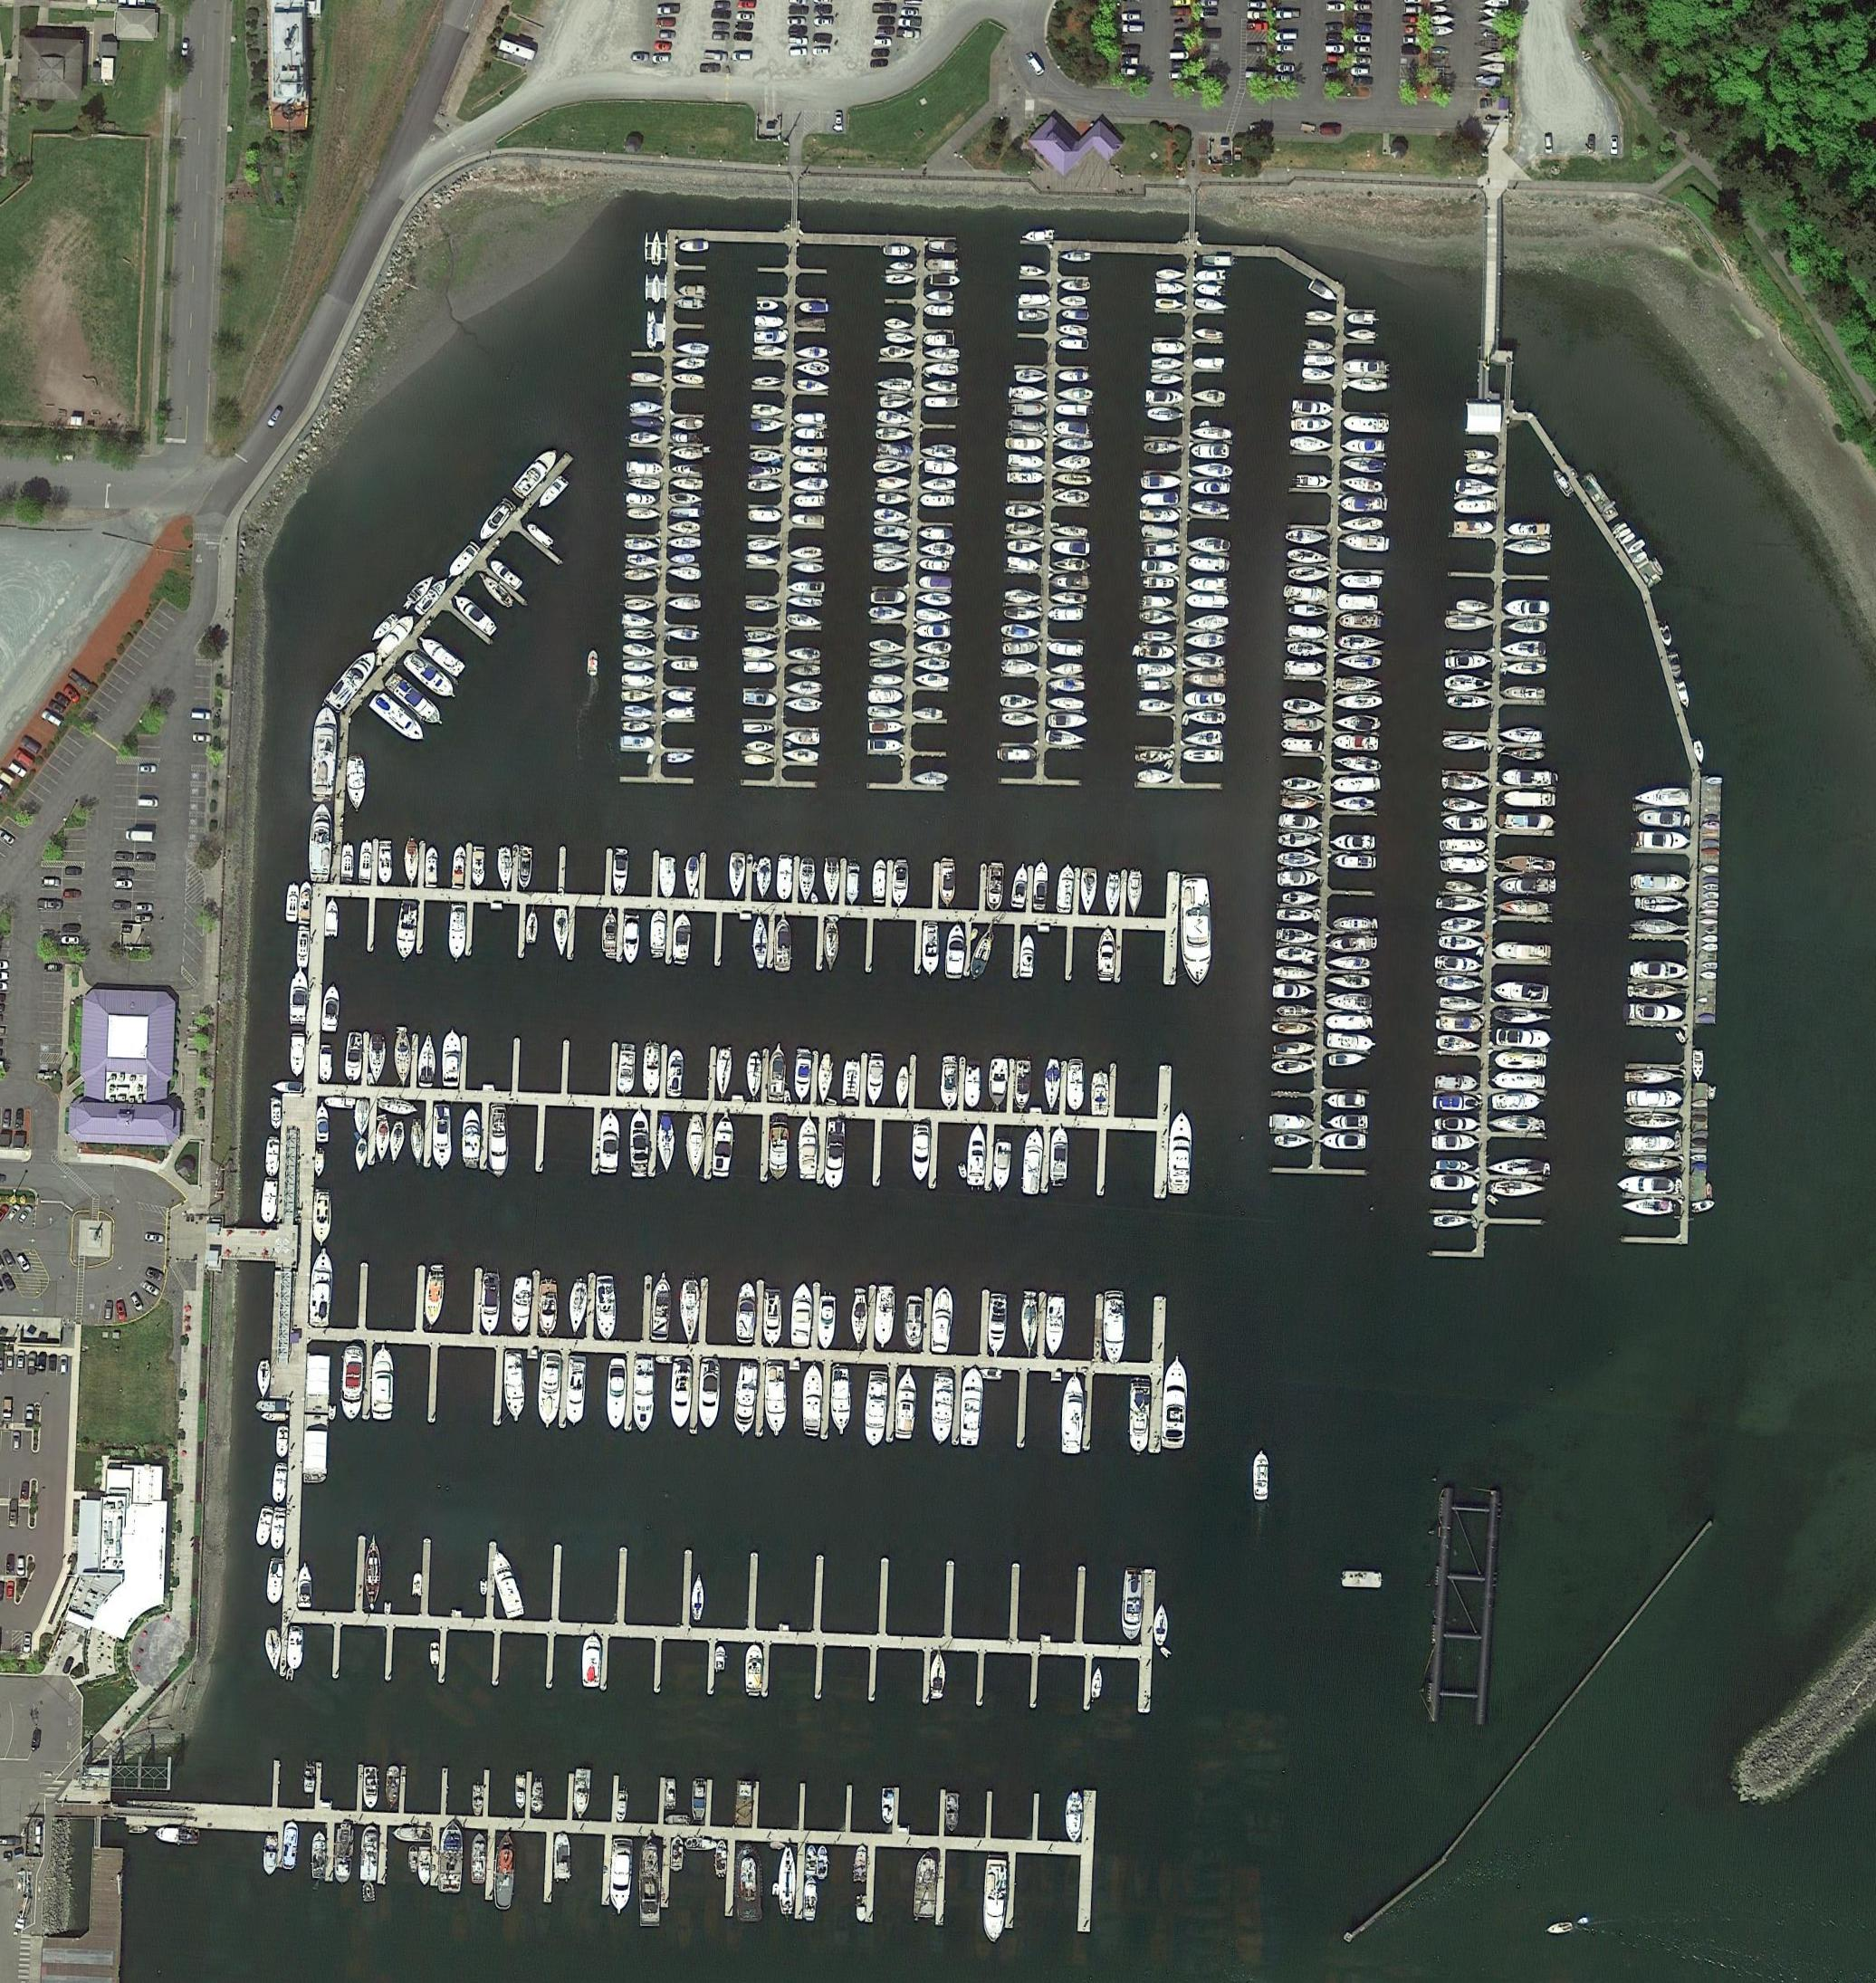harbor: (205, 1750, 1097, 1932), (326, 1262, 1165, 1452), (294, 1530, 1157, 1712), (323, 1031, 1171, 1200), (330, 836, 1183, 985), (1428, 439, 1559, 1266), (1269, 298, 1389, 1176), (340, 451, 619, 756), (1132, 252, 1234, 791), (864, 245, 957, 791), (739, 245, 830, 790), (1000, 245, 1091, 786), (621, 236, 711, 784), (1622, 769, 1703, 1244)
ship: (323, 647, 383, 716), (367, 689, 430, 751), (384, 672, 448, 733), (1610, 518, 1663, 589), (400, 649, 464, 707), (1180, 873, 1211, 987), (511, 444, 562, 502), (487, 1548, 527, 1620), (310, 705, 339, 804), (1162, 1354, 1190, 1451), (414, 631, 467, 679), (450, 590, 501, 638), (1576, 469, 1620, 524), (982, 1854, 1009, 1944), (733, 1844, 763, 1920), (374, 612, 420, 661), (1167, 1110, 1194, 1195), (1060, 1373, 1086, 1456), (309, 1248, 335, 1329), (638, 1835, 661, 1928), (474, 499, 518, 546), (966, 924, 1000, 984), (732, 1361, 758, 1437), (309, 804, 333, 883), (492, 1831, 517, 1911), (959, 1366, 984, 1445), (1100, 1290, 1127, 1364), (340, 1345, 367, 1419), (487, 1103, 511, 1181), (610, 1838, 635, 1916), (864, 1370, 889, 1447), (762, 1359, 786, 1437), (370, 1343, 395, 1421), (649, 1271, 675, 1343), (538, 1352, 562, 1428), (439, 1823, 465, 1893), (474, 569, 517, 612), (1121, 1569, 1146, 1641), (894, 1368, 919, 1440), (668, 1357, 693, 1430), (696, 1357, 721, 1430), (303, 1414, 328, 1486), (931, 1368, 954, 1445), (823, 1118, 848, 1188), (633, 1355, 656, 1431), (1128, 1377, 1151, 1451), (363, 1534, 384, 1613), (800, 1364, 823, 1437), (504, 1348, 527, 1421), (913, 1853, 938, 1920), (929, 1287, 954, 1354), (413, 575, 451, 617), (305, 1352, 331, 1414), (829, 1364, 852, 1435), (628, 1109, 651, 1177), (607, 1357, 628, 1431), (1023, 1128, 1046, 1195), (712, 1112, 735, 1179), (790, 1281, 813, 1348), (594, 1274, 617, 1341), (679, 1278, 702, 1345), (566, 1354, 587, 1426), (395, 901, 420, 962), (444, 541, 481, 582), (430, 1103, 453, 1169), (598, 1110, 621, 1176), (987, 1292, 1010, 1357), (1044, 1292, 1067, 1357), (776, 1846, 797, 1916), (1019, 1290, 1040, 1359), (901, 1296, 926, 1354), (686, 1112, 707, 1179), (534, 476, 571, 513), (425, 1266, 446, 1329), (875, 1285, 896, 1348), (735, 1281, 756, 1345), (1493, 1006, 1555, 1028), (481, 1273, 502, 1334), (769, 1114, 788, 1181), (566, 1280, 589, 1336), (1499, 876, 1559, 897), (538, 1278, 559, 1338), (511, 1276, 532, 1336), (799, 1116, 818, 1181), (488, 557, 524, 592), (1495, 1028, 1553, 1049), (289, 968, 310, 1026), (912, 1123, 933, 1181), (762, 1289, 783, 1347), (1495, 980, 1548, 1003), (987, 1056, 1010, 1109), (1492, 941, 1553, 961), (1626, 982, 1687, 1001), (448, 904, 467, 966), (335, 1824, 354, 1886), (945, 922, 966, 978), (257, 1176, 280, 1227), (1629, 873, 1689, 892), (443, 1028, 462, 1088), (767, 1042, 786, 1102), (816, 1296, 837, 1350), (252, 1504, 277, 1549), (1617, 1176, 1675, 1195), (1633, 788, 1691, 807), (312, 1188, 331, 1246), (360, 1824, 379, 1883), (1495, 1051, 1548, 1072), (406, 571, 437, 606), (1097, 925, 1116, 982), (922, 920, 942, 977), (1627, 1089, 1684, 1109), (1631, 961, 1687, 980), (940, 1054, 959, 1110), (642, 1042, 661, 1098), (462, 1107, 481, 1163), (774, 917, 793, 973), (1497, 855, 1559, 873), (658, 1112, 675, 1174), (968, 1125, 986, 1186), (367, 1035, 388, 1086), (1012, 1059, 1033, 1110), (1636, 809, 1691, 828), (418, 1035, 437, 1089), (393, 1033, 413, 1088), (795, 1049, 815, 1103), (1044, 1058, 1063, 1112), (573, 1768, 592, 1823), (1065, 1058, 1084, 1112), (1051, 1126, 1070, 1181), (347, 753, 365, 813), (321, 984, 342, 1033), (1492, 1179, 1545, 1199), (1488, 1116, 1546, 1133), (1626, 1112, 1684, 1130), (344, 1031, 363, 1084), (993, 1139, 1012, 1192), (866, 1052, 885, 1105), (617, 1043, 636, 1096), (1065, 1791, 1084, 1844), (582, 1636, 601, 1689), (1342, 494, 1389, 515), (733, 1780, 755, 1828), (368, 612, 398, 645), (1305, 279, 1340, 307), (1626, 1155, 1682, 1172), (1624, 1199, 1675, 1218), (1056, 864, 1076, 915), (1340, 534, 1391, 553), (746, 1049, 765, 1100), (622, 913, 642, 964), (850, 1294, 869, 1345), (644, 231, 670, 268), (377, 1096, 420, 1119), (1090, 1070, 1111, 1116), (1629, 1003, 1684, 1021), (1636, 832, 1691, 850), (816, 1052, 834, 1107), (716, 1047, 733, 1102), (1432, 1133, 1481, 1153), (1446, 613, 1495, 633), (1640, 895, 1689, 915), (797, 855, 816, 904), (963, 1059, 982, 1109), (554, 1833, 573, 1883), (1624, 1068, 1684, 1084), (1548, 467, 1576, 501), (1493, 1072, 1546, 1089), (471, 1833, 488, 1886), (1340, 1571, 1384, 1592), (1344, 416, 1391, 435), (987, 864, 1007, 911), (1633, 917, 1680, 936), (728, 853, 748, 901), (1492, 1093, 1543, 1110), (1439, 857, 1490, 874), (1626, 1135, 1677, 1153), (1328, 1033, 1379, 1051), (1333, 754, 1384, 772), (1333, 693, 1384, 710), (674, 911, 691, 962), (823, 920, 841, 971), (1336, 652, 1382, 672), (263, 1627, 282, 1673), (286, 1625, 305, 1671), (1432, 1095, 1481, 1112), (1502, 769, 1552, 786), (1433, 955, 1483, 973), (1333, 714, 1382, 732), (823, 857, 841, 906), (929, 1650, 947, 1699), (266, 1556, 284, 1606), (1490, 1160, 1545, 1176), (1495, 901, 1550, 917), (645, 308, 666, 349), (1432, 1174, 1479, 1192), (1504, 791, 1557, 807), (1435, 1015, 1483, 1033), (892, 860, 910, 908), (1324, 1014, 1372, 1031), (1329, 834, 1377, 851), (1333, 735, 1381, 753), (1338, 635, 1386, 652), (776, 855, 793, 902), (746, 1643, 762, 1696), (1254, 1449, 1269, 1502), (1435, 1073, 1478, 1093), (1456, 478, 1499, 497), (658, 857, 677, 899), (1506, 814, 1557, 830), (1033, 860, 1049, 911), (940, 857, 956, 908), (1331, 777, 1382, 793), (1444, 774, 1490, 791), (1439, 934, 1485, 952), (1127, 871, 1144, 917), (1081, 869, 1098, 915), (1326, 994, 1372, 1012), (289, 1033, 307, 1079), (296, 880, 314, 925), (684, 855, 702, 901), (356, 839, 374, 885), (843, 1058, 860, 1103), (497, 846, 515, 892), (384, 1764, 402, 1810), (1435, 975, 1485, 991), (614, 848, 629, 897), (282, 1821, 298, 1870), (1437, 1035, 1481, 1052), (1439, 994, 1483, 1012), (1442, 895, 1486, 913), (1328, 934, 1372, 952), (1278, 813, 1322, 830), (1278, 851, 1322, 869), (1271, 982, 1315, 999), (270, 1505, 287, 1549), (517, 846, 534, 890), (753, 915, 767, 969), (1442, 735, 1490, 751), (1444, 654, 1492, 670), (1444, 675, 1492, 691), (1504, 539, 1552, 555), (668, 1049, 684, 1096), (552, 908, 568, 955), (691, 1574, 707, 1622), (1344, 457, 1386, 474), (1335, 853, 1377, 871), (1336, 594, 1379, 612), (601, 910, 619, 952), (525, 522, 554, 548), (644, 273, 668, 303), (1342, 360, 1388, 375), (1442, 797, 1488, 813), (1442, 816, 1488, 832), (1502, 661, 1548, 677), (1500, 642, 1546, 657), (1504, 601, 1550, 617), (1335, 675, 1381, 691), (390, 1119, 406, 1165), (651, 910, 666, 955), (451, 844, 467, 890), (377, 841, 393, 887), (802, 1877, 818, 1923), (691, 1779, 707, 1824), (296, 1563, 312, 1609), (1188, 555, 1229, 573), (1183, 747, 1224, 765), (1285, 659, 1326, 677), (873, 458, 913, 476), (1435, 1116, 1479, 1132), (1440, 917, 1485, 932), (1499, 728, 1543, 744), (1105, 873, 1121, 917), (1012, 865, 1028, 910), (1019, 934, 1035, 978), (1507, 522, 1552, 538), (1340, 476, 1384, 492), (1185, 615, 1229, 631), (1284, 585, 1328, 601), (1338, 613, 1382, 629), (1278, 832, 1322, 848), (1278, 871, 1322, 887), (1322, 1133, 1366, 1149), (1273, 1040, 1317, 1056), (1271, 1059, 1315, 1075), (376, 1119, 391, 1163), (896, 1065, 912, 1109), (404, 839, 420, 883), (272, 1461, 287, 1505), (155, 1828, 199, 1844), (411, 1118, 425, 1167), (1001, 657, 1040, 675), (1433, 1214, 1476, 1230), (1453, 499, 1495, 515), (1187, 592, 1229, 608), (1185, 691, 1227, 707), (1287, 566, 1329, 582), (1328, 955, 1370, 971), (1331, 915, 1373, 931), (1342, 516, 1384, 532), (1284, 698, 1326, 714), (1277, 927, 1319, 943), (1277, 947, 1319, 962), (1271, 1114, 1314, 1130), (264, 1135, 280, 1177), (756, 857, 772, 899), (1153, 1604, 1169, 1646), (1046, 730, 1088, 746), (363, 1768, 379, 1810), (312, 1831, 326, 1879), (1143, 524, 1180, 541), (1012, 384, 1049, 402), (1500, 686, 1546, 700), (1448, 694, 1493, 709), (1440, 839, 1486, 853), (873, 858, 887, 904), (1271, 1021, 1317, 1035), (1188, 576, 1229, 592), (1185, 652, 1225, 668), (1187, 672, 1227, 687), (1183, 730, 1224, 746), (1135, 769, 1176, 784), (1291, 435, 1331, 451), (1289, 548, 1329, 564), (1190, 501, 1231, 516), (1190, 444, 1231, 460), (1342, 575, 1382, 590), (1284, 717, 1324, 733), (284, 881, 300, 922), (1135, 663, 1176, 679), (1051, 575, 1091, 590), (1000, 624, 1040, 640), (998, 693, 1038, 709), (996, 747, 1037, 763), (867, 605, 908, 620), (1285, 531, 1329, 545), (1190, 464, 1234, 478), (1331, 797, 1375, 811), (1273, 966, 1317, 980), (1509, 619, 1548, 635), (1141, 508, 1180, 524), (1289, 624, 1328, 640), (1287, 642, 1326, 657), (1329, 1052, 1368, 1068), (1329, 1114, 1368, 1130), (1282, 795, 1321, 811), (354, 1098, 370, 1137), (324, 899, 340, 938), (393, 1826, 432, 1842), (1139, 610, 1178, 626), (1009, 420, 1047, 435), (919, 494, 957, 509), (1053, 488, 1091, 504), (1005, 520, 1044, 536), (1053, 539, 1091, 555), (785, 680, 823, 696), (846, 864, 860, 906), (1453, 520, 1495, 534), (1344, 439, 1386, 453), (1291, 418, 1333, 432), (1188, 538, 1231, 552), (1282, 739, 1324, 753), (1275, 1005, 1317, 1019), (425, 846, 439, 888), (296, 927, 310, 969), (1051, 557, 1093, 571), (264, 1835, 279, 1877), (1143, 559, 1180, 575), (1146, 390, 1183, 405), (1282, 890, 1319, 906), (924, 393, 961, 409), (1009, 453, 1046, 469), (876, 427, 913, 442), (924, 460, 961, 476), (1005, 589, 1042, 605), (873, 557, 910, 573), (1347, 377, 1388, 391), (1292, 400, 1333, 414), (1192, 427, 1232, 441), (1326, 1095, 1366, 1109), (1284, 777, 1324, 791), (316, 1102, 330, 1142), (317, 1043, 331, 1084), (473, 846, 487, 887), (257, 1359, 272, 1400), (1005, 437, 1046, 451), (1054, 437, 1095, 451), (1049, 714, 1090, 728), (1003, 608, 1044, 622), (1456, 598, 1492, 613), (878, 442, 913, 458), (880, 344, 915, 360), (1007, 557, 1042, 573), (1049, 642, 1084, 657), (755, 330, 790, 345), (795, 361, 830, 377), (621, 687, 656, 703), (751, 418, 786, 434), (751, 448, 786, 464), (744, 691, 779, 707), (1289, 603, 1328, 617), (1185, 635, 1224, 649), (1188, 710, 1227, 724), (1192, 481, 1231, 495), (1143, 476, 1181, 490), (1275, 1133, 1314, 1147), (945, 1793, 959, 1831), (873, 508, 912, 522), (1005, 504, 1044, 518), (1051, 590, 1090, 605), (1001, 642, 1040, 656), (781, 749, 820, 763), (869, 590, 908, 605), (1326, 975, 1370, 987), (303, 1761, 319, 1794), (880, 393, 913, 409), (749, 478, 783, 494), (1502, 747, 1545, 760), (1139, 698, 1176, 712), (1143, 492, 1180, 506), (1144, 441, 1181, 455), (1146, 407, 1183, 421), (1277, 908, 1314, 922), (418, 1846, 430, 1888), (1012, 404, 1049, 418), (920, 478, 957, 492), (922, 363, 959, 377), (1054, 455, 1091, 469), (525, 908, 540, 945), (1049, 679, 1086, 693), (1001, 712, 1038, 726), (1049, 696, 1086, 710), (919, 543, 956, 557), (875, 525, 912, 539), (873, 541, 910, 555), (913, 673, 950, 687), (867, 739, 904, 753), (869, 721, 906, 735), (869, 689, 906, 703), (869, 656, 906, 670), (913, 657, 950, 672), (869, 638, 906, 652), (917, 608, 954, 622), (792, 460, 829, 474), (793, 478, 830, 492), (1023, 229, 1054, 245), (340, 843, 353, 883), (1139, 751, 1174, 765), (1296, 474, 1331, 488), (1195, 298, 1231, 312), (853, 1846, 867, 1881), (629, 414, 665, 428), (1141, 645, 1176, 659), (1058, 388, 1093, 402), (922, 444, 957, 458), (878, 377, 913, 391), (1009, 539, 1044, 553), (1049, 608, 1084, 622), (621, 735, 656, 749), (621, 613, 656, 628), (665, 628, 700, 642), (666, 566, 702, 580), (621, 673, 656, 687), (867, 705, 903, 719), (917, 640, 952, 654), (917, 592, 952, 606), (785, 732, 820, 746), (785, 698, 820, 712), (748, 509, 783, 524), (748, 552, 783, 566), (1435, 1160, 1474, 1172), (882, 1787, 894, 1826), (1656, 624, 1675, 649), (1007, 472, 1046, 485), (1054, 472, 1093, 485), (1051, 525, 1090, 538), (1677, 680, 1693, 710), (1465, 462, 1499, 476), (1192, 390, 1225, 404), (531, 1780, 545, 1814), (1141, 679, 1174, 693), (1201, 254, 1234, 268), (1054, 404, 1088, 418), (1054, 421, 1088, 435), (919, 527, 952, 541), (876, 492, 910, 506), (878, 476, 912, 490), (626, 538, 659, 552), (628, 478, 661, 492), (668, 598, 702, 612), (753, 344, 786, 358), (871, 673, 904, 687), (917, 624, 950, 638), (919, 576, 952, 590), (748, 538, 781, 552), (744, 645, 778, 659), (1666, 652, 1684, 679), (1691, 740, 1708, 767), (1546, 1920, 1573, 1937), (354, 1137, 367, 1174), (254, 1400, 291, 1412), (628, 462, 665, 474), (912, 772, 949, 784), (786, 596, 823, 608), (1446, 880, 1478, 894), (1151, 356, 1183, 370), (1155, 296, 1187, 310), (324, 1096, 356, 1110), (686, 1837, 718, 1851), (665, 1779, 679, 1810), (927, 240, 959, 254), (1017, 310, 1049, 324), (679, 240, 711, 254), (919, 559, 950, 573), (793, 494, 825, 508), (790, 665, 822, 679), (1151, 342, 1187, 354), (714, 1840, 726, 1875), (515, 1775, 527, 1810), (878, 411, 913, 423), (666, 538, 702, 550), (668, 492, 703, 504), (629, 402, 665, 414), (746, 599, 781, 612), (1194, 326, 1224, 340), (273, 1081, 303, 1095), (1305, 338, 1335, 353), (1017, 370, 1047, 384), (628, 492, 658, 506), (672, 446, 702, 460), (622, 719, 652, 733), (1691, 1199, 1717, 1214), (1303, 354, 1336, 367), (816, 1846, 829, 1879), (672, 1837, 684, 1870), (277, 1426, 289, 1459), (1017, 294, 1051, 307), (926, 347, 959, 360), (922, 335, 956, 347), (628, 508, 661, 520), (670, 478, 703, 490), (629, 432, 663, 444), (674, 358, 707, 370), (1051, 663, 1084, 675), (624, 599, 658, 612), (626, 553, 659, 566), (751, 404, 785, 416), (622, 659, 656, 672), (797, 379, 830, 391), (792, 513, 825, 525), (786, 613, 820, 626), (746, 631, 779, 643), (1479, 5, 1507, 19), (885, 317, 913, 331), (795, 427, 823, 441), (1305, 310, 1336, 323), (1693, 1051, 1705, 1082), (1301, 368, 1333, 381), (1157, 282, 1188, 294), (1195, 270, 1227, 282), (1194, 358, 1225, 370), (806, 1846, 818, 1877), (1091, 1667, 1104, 1699), (473, 1786, 485, 1817), (617, 1791, 629, 1823), (1143, 596, 1174, 608), (926, 259, 957, 271), (1058, 338, 1090, 351), (929, 275, 961, 287), (668, 522, 700, 534), (631, 372, 663, 384), (679, 342, 711, 354), (624, 643, 656, 656), (626, 569, 658, 582), (795, 347, 827, 360), (622, 705, 654, 717), (793, 412, 825, 425), (744, 754, 776, 767), (792, 446, 829, 457), (788, 582, 825, 592), (744, 661, 776, 673), (979, 1368, 1005, 1382), (1626, 538, 1647, 555), (1649, 557, 1666, 578), (924, 381, 959, 391), (792, 562, 827, 573), (786, 649, 822, 659), (1347, 328, 1377, 340), (1465, 448, 1495, 460), (1425, 25, 1455, 37), (1479, 18, 1509, 30), (1479, 63, 1509, 76), (883, 245, 913, 257), (1061, 280, 1091, 293), (1058, 324, 1088, 337), (1058, 370, 1088, 382), (924, 305, 954, 317), (665, 707, 695, 719), (755, 316, 785, 328), (746, 740, 776, 753), (913, 709, 943, 721), (361, 1881, 377, 1904), (1151, 374, 1185, 384), (272, 1098, 282, 1132), (672, 420, 705, 430), (672, 374, 705, 384), (790, 548, 823, 559), (1347, 314, 1375, 326), (1195, 284, 1224, 296), (587, 649, 599, 677), (672, 432, 700, 444), (1143, 631, 1174, 642), (1060, 252, 1091, 263), (885, 333, 917, 344), (624, 631, 656, 642), (755, 375, 786, 386), (744, 724, 776, 735), (855, 1897, 867, 1923), (714, 1645, 726, 1671), (1478, 76, 1504, 88), (666, 753, 693, 765), (668, 689, 695, 702), (1157, 270, 1187, 280), (259, 1412, 289, 1422), (885, 275, 915, 286), (672, 464, 702, 474), (1631, 550, 1650, 566), (665, 1814, 689, 1826), (755, 300, 779, 312), (314, 1149, 324, 1177), (430, 1643, 441, 1671), (1483, 51, 1511, 62), (1060, 296, 1088, 307), (1061, 310, 1090, 321), (926, 291, 954, 301), (675, 300, 703, 310), (679, 286, 707, 296), (672, 661, 700, 672), (1157, 1645, 1174, 1660), (1428, 14, 1455, 25), (670, 553, 696, 564), (413, 1572, 423, 1597), (1021, 266, 1046, 277), (889, 261, 913, 271), (1613, 520, 1629, 536), (409, 1846, 418, 1874), (1613, 527, 1631, 541), (1619, 532, 1636, 546), (800, 303, 829, 312), (654, 1354, 675, 1364), (1700, 864, 1721, 874), (1701, 820, 1723, 830), (129, 1824, 150, 1835), (956, 1162, 968, 1179), (1703, 1181, 1716, 1199), (1700, 943, 1719, 954), (1673, 1031, 1687, 1045), (1700, 1012, 1717, 1022), (1698, 934, 1719, 943), (1705, 1086, 1717, 1100), (1486, 1192, 1499, 1206), (1689, 1146, 1708, 1155), (1701, 874, 1721, 883), (1703, 776, 1723, 784), (1691, 1137, 1708, 1146), (1701, 917, 1719, 925), (1701, 901, 1719, 910), (1703, 892, 1721, 901), (1576, 1916, 1590, 1927), (1693, 1162, 1708, 1170), (1691, 1112, 1707, 1121), (328, 1405, 337, 1421), (480, 1579, 488, 1595), (1684, 813, 1693, 828), (1181, 712, 1190, 728), (1700, 910, 1719, 917), (1701, 883, 1721, 890), (1701, 848, 1721, 855), (1701, 839, 1721, 846), (1199, 420, 1211, 430), (1543, 1163, 1552, 1177), (1693, 1130, 1710, 1137), (1700, 971, 1717, 978), (1701, 962, 1719, 969), (384, 1601, 393, 1615), (286, 1667, 294, 1682), (1691, 1155, 1707, 1162), (1432, 5, 1448, 12), (1693, 1100, 1707, 1107), (1693, 1107, 1708, 1112)
